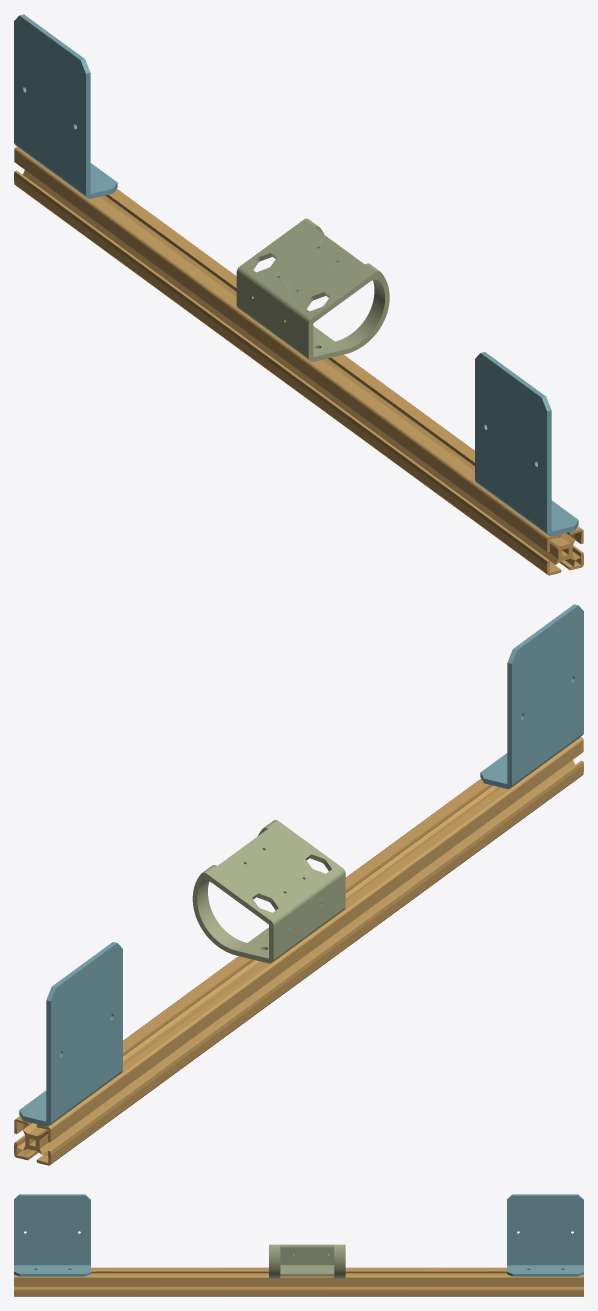
File: shuttle-mount.glb
The picture shows the model from 3 angles, top to bottom: view 1: azimuth 30°, elevation 25°; view 2: azimuth 150°, elevation 25°; view 3: azimuth 270°, elevation 25°; orthographic projection. The views are drawn at different scales.
Parts seen in each view (by area): view 1: 40x40-PART2020 / 40x40-PART2020 1, Camera_mount / Camera_mount 1, Antenna_mount / Antenna_mount 1, Antenna_mount / Antenna_mount 2; view 2: 40x40-PART2020 / 40x40-PART2020 1, Camera_mount / Camera_mount 1, Antenna_mount / Antenna_mount 1, Antenna_mount / Antenna_mount 2; view 3: 40x40-PART2020 / 40x40-PART2020 1, Antenna_mount / Antenna_mount 1, Antenna_mount / Antenna_mount 2, Camera_mount / Camera_mount 1.
Boxes of the visible parts, x1,y1,x2,y2 form: 40x40-PART2020 / 40x40-PART2020 1: (14,147,583,575); Camera_mount / Camera_mount 1: (236,218,389,361); Antenna_mount / Antenna_mount 1: (475,352,578,536); Antenna_mount / Antenna_mount 2: (14,14,117,198); 40x40-PART2020 / 40x40-PART2020 1: (14,737,583,1165); Camera_mount / Camera_mount 1: (192,820,345,963); Antenna_mount / Antenna_mount 1: (480,604,583,788); Antenna_mount / Antenna_mount 2: (19,942,122,1126); 40x40-PART2020 / 40x40-PART2020 1: (14,1267,583,1296); Antenna_mount / Antenna_mount 1: (14,1194,90,1276); Antenna_mount / Antenna_mount 2: (507,1194,583,1276); Camera_mount / Camera_mount 1: (269,1244,345,1279).
Size of the model in its own units: 0.0877 by 0.1808 by 1.
